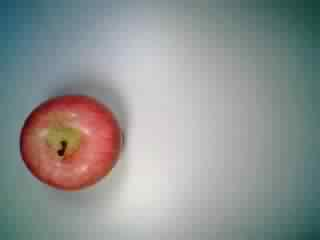apple: (19, 92, 124, 193)
